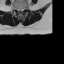CCS_normal: (19, 7, 21, 14)
LFS_normal: (23, 6, 25, 12)
LLS_normal: (21, 7, 23, 13)
RFS_normal: (16, 6, 18, 12)
RLS_normal: (18, 7, 19, 13)
